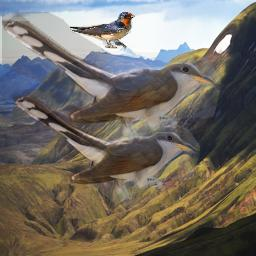Cuckoo: (2, 12, 221, 152), (13, 89, 200, 209)
Swallow: (70, 12, 135, 49)
